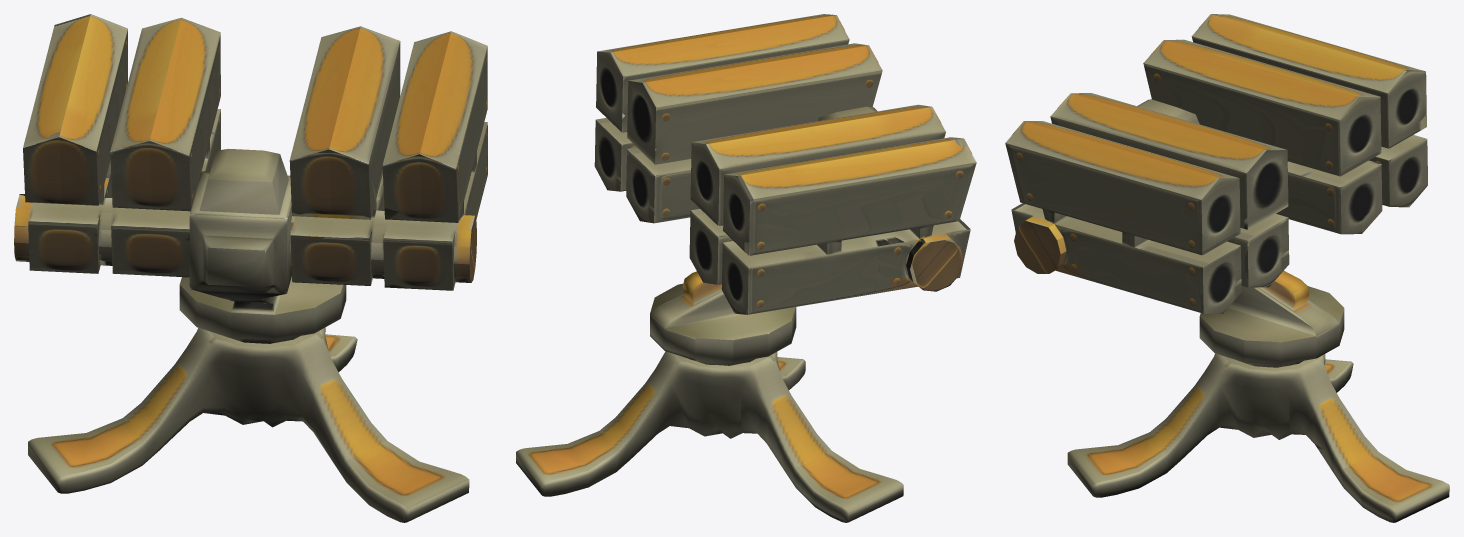
The model's file is Cannister_Turret.fbx.
3 views of the same model, side by side, from view 1: azimuth 30°, elevation 25°; view 2: azimuth 150°, elevation 25°; view 3: azimuth 270°, elevation 25° (orthographic). The views are drawn at different scales.
Visible parts, largest first — view 1: Cylinder.003_Cylinder.004, Cylinder.000_Cylinder.064, Cylinder.001_Cylinder.002; view 2: Cylinder.003_Cylinder.004, Cylinder.000_Cylinder.064, Cylinder.001_Cylinder.002; view 3: Cylinder.003_Cylinder.004, Cylinder.000_Cylinder.064, Cylinder.001_Cylinder.002.
Part boxes in pixels (<box>): Cylinder.003_Cylinder.004: <box>14,14,487,290</box>; Cylinder.000_Cylinder.064: <box>28,327,469,522</box>; Cylinder.001_Cylinder.002: <box>179,148,346,343</box>; Cylinder.003_Cylinder.004: <box>594,14,976,314</box>; Cylinder.000_Cylinder.064: <box>516,351,903,522</box>; Cylinder.001_Cylinder.002: <box>650,106,877,365</box>; Cylinder.003_Cylinder.004: <box>1005,14,1427,313</box>; Cylinder.000_Cylinder.064: <box>1067,353,1449,522</box>; Cylinder.001_Cylinder.002: <box>1137,99,1344,367</box>.
Size of the model in its own units: 423 by 358 by 418.
2 materials, 2 textured.
